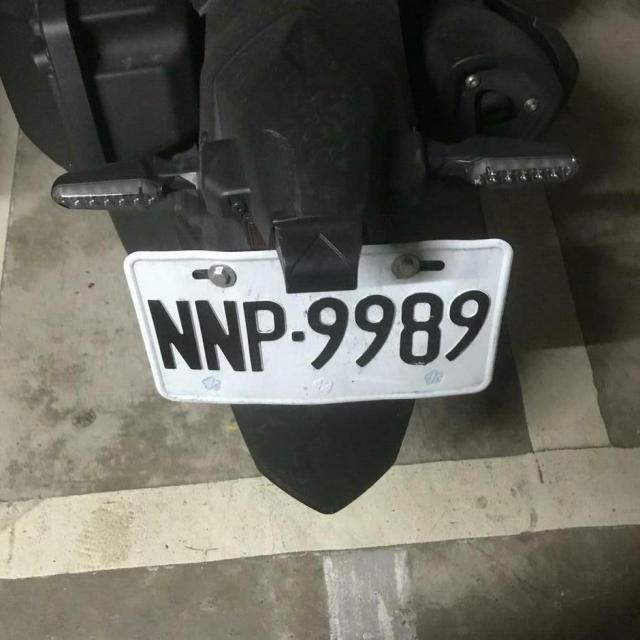W: (119, 233, 526, 421)
